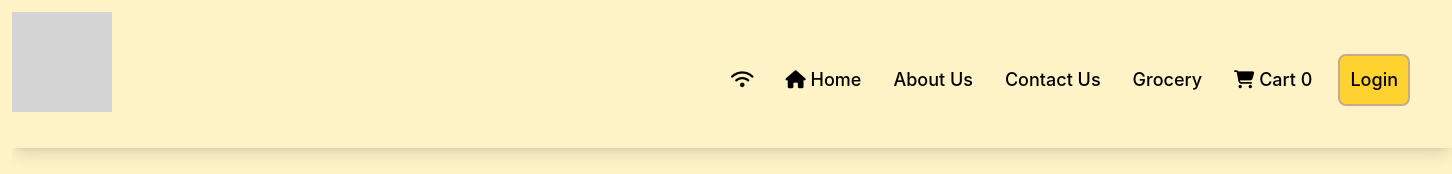
it: Should change login button to logout on click
Click the button at (1374, 80), box x1=1338 y1=54 x2=1410 y2=106
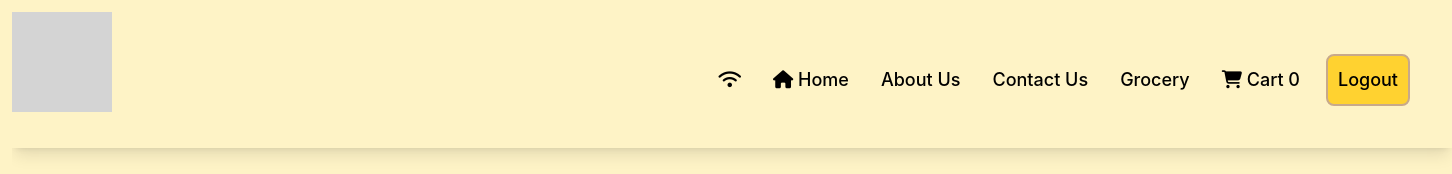
Expected: the button "Logout" is shown, x1=1326 y1=54 x2=1410 y2=106
